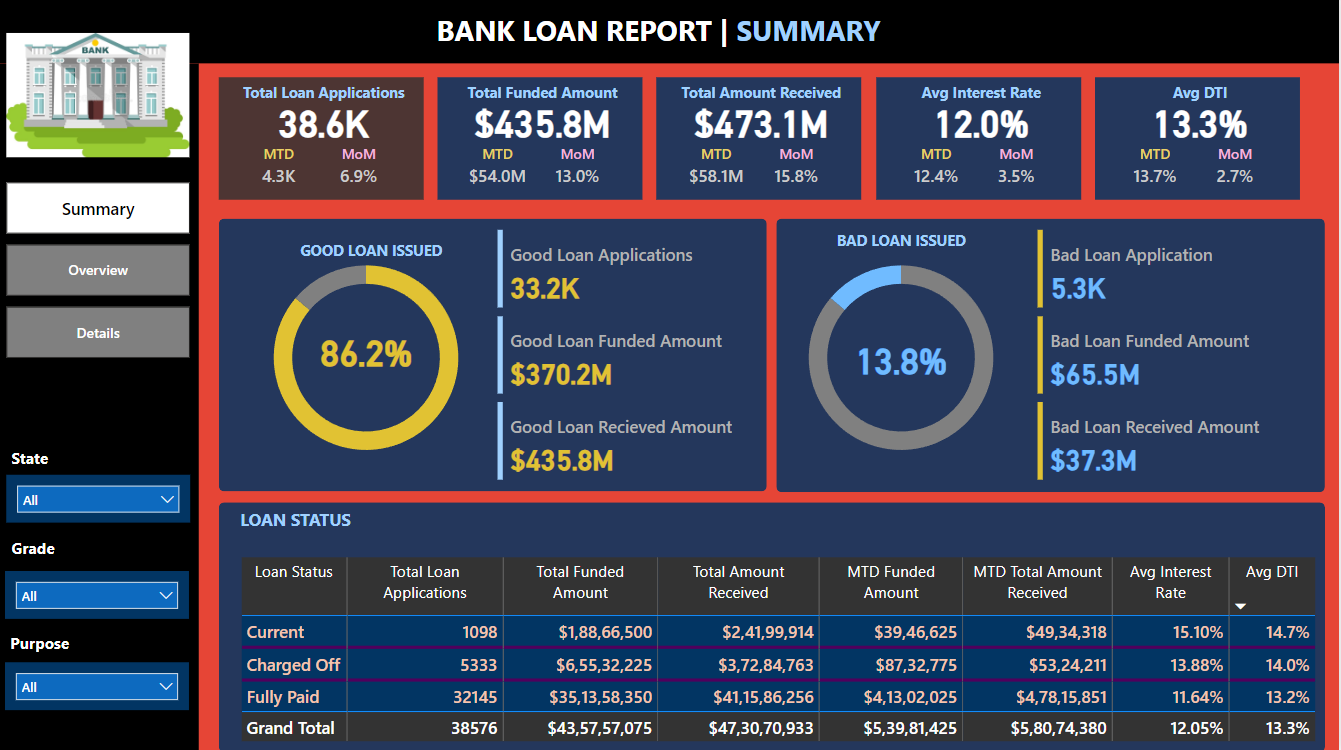

This screenshot's page, from the dashboard's own definition file:
{"tool":"powerbi","page":{"name":"Summary","canvas":[1280,720],"ordinal":0},"visuals":[{"type":"shape","box":[0,0,1270.2,54.8],"z":0},{"type":"shape","box":[213.1,77.4,195.2,116.7],"z":0,"group":"g1"},{"type":"shape","box":[421.7,77.4,195.2,116.7],"z":0,"group":"g2"},{"type":"shape","box":[630.4,77.4,195.2,116.7],"z":0,"group":"g3"},{"type":"shape","box":[839,77.4,195.2,116.7],"z":0,"group":"g4"},{"type":"shape","box":[1047.6,77.4,195.2,116.7],"z":0,"group":"g5"},{"type":"shape","box":[0,0,1279.8,64.3],"z":1000},{"type":"card","fields":{"Values":["bank_loan_data.Total Loan Applications"]},"box":[236.9,97.6,152.4,42.9],"z":1000,"group":"g1"},{"type":"card","fields":{"Values":["bank_loan_data.Total Funded Amount"]},"box":[445.5,97.6,152.4,42.9],"z":1000,"group":"g2"},{"type":"card","fields":{"Values":["bank_loan_data.Total Amount Received"]},"box":[654.2,97.6,152.4,42.9],"z":1000,"group":"g3"},{"type":"card","fields":{"Values":["bank_loan_data.Avg Interest Rate"]},"box":[862.8,97.6,152.4,42.9],"z":1000,"group":"g4"},{"type":"card","fields":{"Values":["bank_loan_data.Avg DTI"]},"box":[1071.4,97.6,152.4,42.9],"z":1000,"group":"g5"},{"type":"textbox","box":[213.1,77.4,200,39.3],"z":2000,"group":"g1"},{"type":"textbox","box":[421.7,77.4,200,39.3],"z":2000,"group":"g2"},{"type":"textbox","box":[630.4,77.4,200,39.3],"z":2000,"group":"g3"},{"type":"textbox","box":[839,77.4,200,39.3],"z":2000,"group":"g4"},{"type":"textbox","box":[1047.6,77.4,200,39.3],"z":2000,"group":"g5"},{"type":"shape","box":[213.1,211.9,522,260],"z":2000},{"type":"textbox","box":[763.1,217.9,200,39.3],"z":2000,"group":"g6"},{"type":"textbox","box":[258.8,227.9,200,39.3],"z":2000,"group":"g7"},{"type":"shape","box":[2.4,64.3,191.7,656],"z":3000},{"type":"card","title":"MTD","fields":{"Values":["bank_loan_data.MTD Loan Applications"]},"box":[236.9,140.5,66.7,47.6],"z":3000,"group":"g1"},{"type":"card","title":"MTD","fields":{"Values":["bank_loan_data.MTD Funded Amount"]},"box":[445.5,140.5,66.7,47.6],"z":3000,"group":"g2"},{"type":"card","title":"MTD","fields":{"Values":["bank_loan_data.MTD Total Amount Received"]},"box":[654.2,140.5,66.7,47.6],"z":3000,"group":"g3"},{"type":"card","title":"MTD","fields":{"Values":["bank_loan_data.MTD Avg Int Rate"]},"box":[862.8,140.5,66.7,47.6],"z":3000,"group":"g4"},{"type":"card","title":"MTD","fields":{"Values":["bank_loan_data.MTD Avg DTI"]},"box":[1071.4,140.5,66.7,47.6],"z":3000,"group":"g5"},{"type":"card","title":"MoM","fields":{"Values":["bank_loan_data.MoM Loan Applicaton"]},"box":[313.1,140.5,66.7,47.6],"z":4000,"group":"g1"},{"type":"card","title":"MoM","fields":{"Values":["bank_loan_data.MoM Total Funded Amount"]},"box":[521.7,140.5,66.7,47.6],"z":4000,"group":"g2"},{"type":"card","title":"MoM","fields":{"Values":["bank_loan_data.MoM Total Amount Received"]},"box":[730.4,140.5,66.7,47.6],"z":4000,"group":"g3"},{"type":"card","title":"MoM","fields":{"Values":["bank_loan_data.MoM Avg Int Rate"]},"box":[939,140.5,66.7,47.6],"z":4000,"group":"g4"},{"type":"card","title":"MoM","fields":{"Values":["bank_loan_data.MoM Avg DTI"]},"box":[1147.6,140.5,66.7,47.6],"z":4000,"group":"g5"},{"type":"card","fields":{"Values":["bank_loan_data.Good Loan %"]},"box":[277.4,316.7,152.4,42.9],"z":4000},{"type":"textbox","box":[415.5,9.5,448.8,45.2],"z":5000},{"type":"group","id":"g1","title":"Group 1","box":[213.1,77.4,200,116.7],"z":6000},{"type":"donutChart","fields":{"Category":["bank_loan_data.Good vs Bad Loan"],"Y":["bank_loan_data.Total Loan Applications"]},"box":[228.6,229.8,250,229.8],"z":7000},{"type":"group","id":"g2","title":"Group 1","box":[421.7,77.4,200,116.7],"z":8000},{"type":"group","id":"g3","title":"Group 1","box":[630.4,77.4,200,116.7],"z":9000},{"type":"group","id":"g4","title":"Group 1","box":[839,77.4,200,116.7],"z":10000},{"type":"group","id":"g5","title":"Group 1","box":[1047.6,77.4,200,116.7],"z":11000},{"type":"shape","box":[744.1,211.9,522.6,260.7],"z":12000},{"type":"shape","box":[213.1,482.1,1053.6,238.1],"z":13000},{"type":"cardVisual","fields":{"Data":["bank_loan_data.Good Loan Applications","bank_loan_data.Good Loan Funded Amount","bank_loan_data.Good Loan Recieved Amount"]},"box":[473.8,217.9,260.7,248.8],"z":14000},{"type":"donutChart","fields":{"Category":["bank_loan_data.Good vs Bad Loan"],"Y":["bank_loan_data.Total Loan Applications"]},"box":[738.1,229.8,250,229.8],"z":15000},{"type":"group","id":"g6","title":"Group 1","box":[763.1,217.9,200,39.3],"z":16000},{"type":"card","fields":{"Values":["bank_loan_data.Bad Loan %"]},"box":[786.9,323.8,152.4,42.9],"z":17000},{"type":"cardVisual","fields":{"Data":["bank_loan_data.Bad Loan Application","bank_loan_data.Bad Loan Funded Amount","bank_loan_data.Bad Loan Received Amount"]},"box":[988.1,217.9,260.7,248.8],"z":18000},{"type":"tableEx","fields":{"Values":["bank_loan_data.loan_status","bank_loan_data.Total Loan Applications","bank_loan_data.Total Funded Amount","bank_loan_data.Total Amount Received","bank_loan_data.MTD Funded Amount","bank_loan_data.MTD Total Amount Received","bank_loan_data.Avg Interest Rate","bank_loan_data.Avg DTI"]},"box":[228.6,529.8,1038.1,190.5],"z":19000},{"type":"group","id":"g7","title":"Group 1","box":[258.8,227.9,200,39.3],"z":20000},{"type":"textbox","box":[228.6,482.1,183.3,36.9],"z":21000},{"type":"slicer","fields":{"Values":["bank_loan_data.address_state"]},"box":[10.7,456,175,45.2],"z":22000},{"type":"textbox","box":[10.7,425,154.8,31],"z":23000},{"type":"slicer","fields":{"Values":["bank_loan_data.grade"]},"box":[9.5,547.6,175,45.2],"z":24000},{"type":"slicer","fields":{"Values":["bank_loan_data.purpose"]},"box":[9.5,634.5,175,45.2],"z":25000},{"type":"textbox","box":[10.7,510.7,85.7,36.9],"z":26000},{"type":"textbox","box":[9.5,601.2,85.7,44],"z":27000},{"type":"image","box":[6,0,184.5,188.1],"z":28000},{"type":"pageNavigator","box":[10.7,177.4,175,167.9],"z":29000}]}

Visuals, with their boxes in screenshot pixels (x1, y1, x2, y2), scaled from the page's 1280x720 canvas onto the 1341x750 screenshot:
shape: (left=0, top=0, right=1331, bottom=57)
shape: (left=223, top=81, right=428, bottom=202)
shape: (left=442, top=81, right=646, bottom=202)
shape: (left=660, top=81, right=865, bottom=202)
shape: (left=879, top=81, right=1083, bottom=202)
shape: (left=1098, top=81, right=1302, bottom=202)
shape: (left=0, top=0, right=1340, bottom=67)
card - bank_loan_data.Total Loan Applications: (left=248, top=102, right=408, bottom=146)
card - bank_loan_data.Total Funded Amount: (left=467, top=102, right=626, bottom=146)
card - bank_loan_data.Total Amount Received: (left=685, top=102, right=845, bottom=146)
card - bank_loan_data.Avg Interest Rate: (left=904, top=102, right=1064, bottom=146)
card - bank_loan_data.Avg DTI: (left=1122, top=102, right=1282, bottom=146)
textbox: (left=223, top=81, right=433, bottom=122)
textbox: (left=442, top=81, right=651, bottom=122)
textbox: (left=660, top=81, right=870, bottom=122)
textbox: (left=879, top=81, right=1089, bottom=122)
textbox: (left=1098, top=81, right=1307, bottom=122)
shape: (left=223, top=221, right=770, bottom=492)
textbox: (left=799, top=227, right=1009, bottom=268)
textbox: (left=271, top=237, right=481, bottom=278)
shape: (left=3, top=67, right=203, bottom=749)
"MTD" card: (left=248, top=146, right=318, bottom=196)
"MTD" card: (left=467, top=146, right=537, bottom=196)
"MTD" card: (left=685, top=146, right=755, bottom=196)
"MTD" card: (left=904, top=146, right=974, bottom=196)
"MTD" card: (left=1122, top=146, right=1192, bottom=196)
"MoM" card: (left=328, top=146, right=398, bottom=196)
"MoM" card: (left=547, top=146, right=616, bottom=196)
"MoM" card: (left=765, top=146, right=835, bottom=196)
"MoM" card: (left=984, top=146, right=1054, bottom=196)
"MoM" card: (left=1202, top=146, right=1272, bottom=196)
card - bank_loan_data.Good Loan %: (left=291, top=330, right=450, bottom=375)
textbox: (left=435, top=10, right=905, bottom=57)
"Group 1" group: (left=223, top=81, right=433, bottom=202)
donutChart - bank_loan_data.Good vs Bad Loan x bank_loan_data.Total Loan Applications: (left=239, top=239, right=501, bottom=479)
"Group 1" group: (left=442, top=81, right=651, bottom=202)
"Group 1" group: (left=660, top=81, right=870, bottom=202)
"Group 1" group: (left=879, top=81, right=1089, bottom=202)
"Group 1" group: (left=1098, top=81, right=1307, bottom=202)
shape: (left=780, top=221, right=1327, bottom=492)
shape: (left=223, top=502, right=1327, bottom=749)
cardVisual - bank_loan_data.Good Loan Applications x bank_loan_data.Good Loan Funded Amount: (left=496, top=227, right=770, bottom=486)
donutChart - bank_loan_data.Good vs Bad Loan x bank_loan_data.Total Loan Applications: (left=773, top=239, right=1035, bottom=479)
"Group 1" group: (left=799, top=227, right=1009, bottom=268)
card - bank_loan_data.Bad Loan %: (left=824, top=337, right=984, bottom=382)
cardVisual - bank_loan_data.Bad Loan Application x bank_loan_data.Bad Loan Funded Amount: (left=1035, top=227, right=1308, bottom=486)
tableEx - bank_loan_data.loan_status x bank_loan_data.Total Loan Applications: (left=239, top=552, right=1327, bottom=749)
"Group 1" group: (left=271, top=237, right=481, bottom=278)
textbox: (left=239, top=502, right=432, bottom=541)
slicer - bank_loan_data.address_state: (left=11, top=475, right=195, bottom=522)
textbox: (left=11, top=443, right=173, bottom=475)
slicer - bank_loan_data.grade: (left=10, top=570, right=193, bottom=618)
slicer - bank_loan_data.purpose: (left=10, top=661, right=193, bottom=708)
textbox: (left=11, top=532, right=101, bottom=570)
textbox: (left=10, top=626, right=100, bottom=672)
image: (left=6, top=0, right=200, bottom=196)
pageNavigator: (left=11, top=185, right=195, bottom=360)
